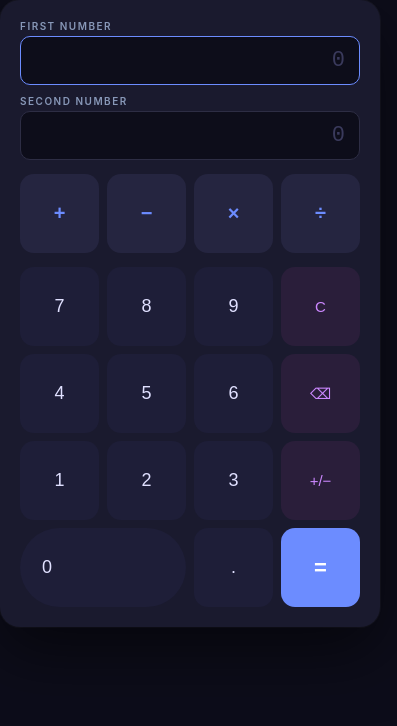
Test: Integration — subtraction › performs subtraction end-to-end and displays the result
Type "10" into the field with test id "first-input" at [190, 60], box [20,36,360,85]
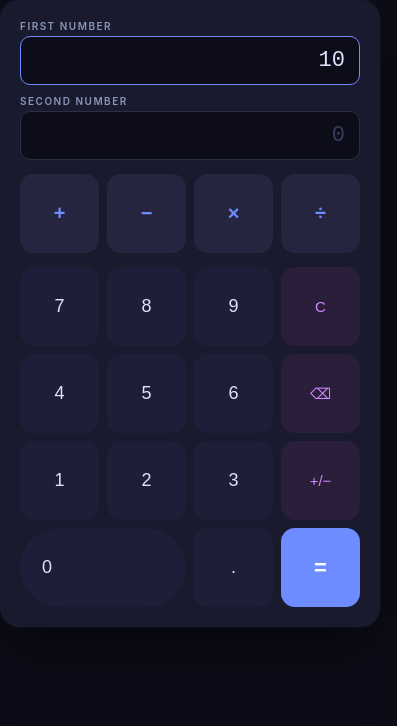
Click the button with test id "op-subtract" at [146, 214], box [107,174,186,253]
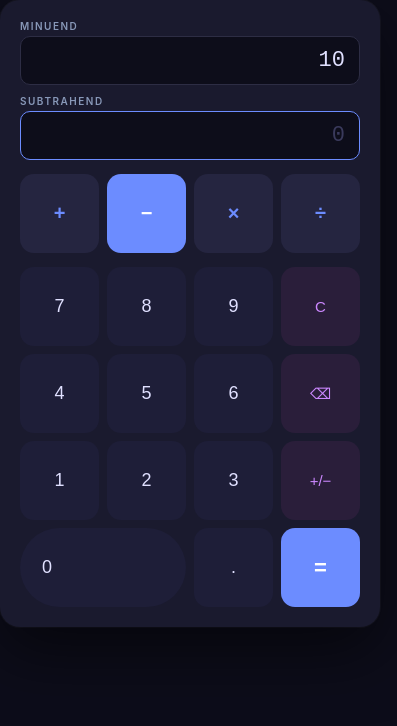
Type "3" into the field with test id "second-input" at [190, 136], box [20,111,360,160]
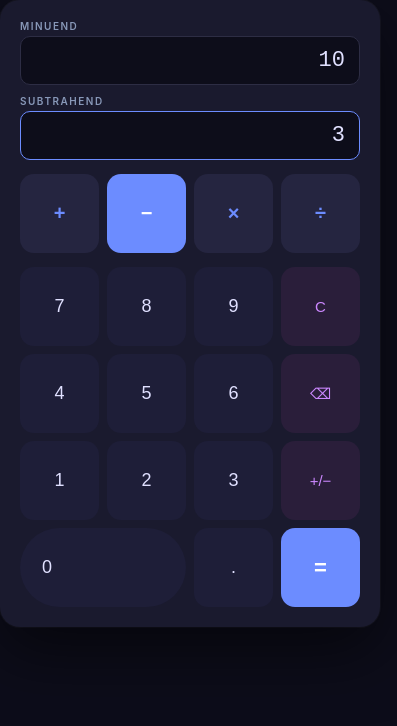
Click the button with test id "equals-btn" at [320, 568], box [281,528,360,607]
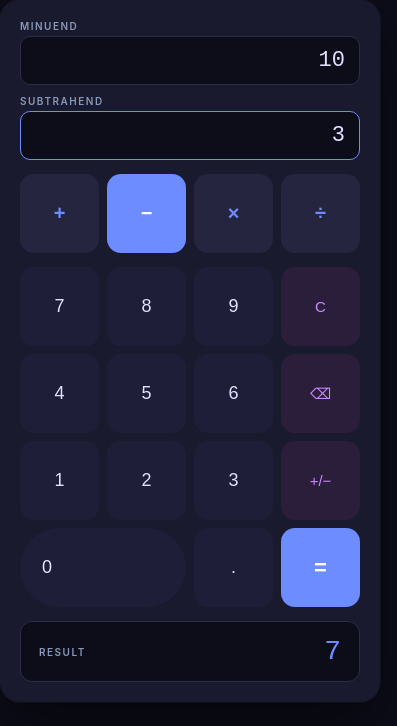
Expected: the text with test id "result-value" reads "7", [324,636,341,667]
